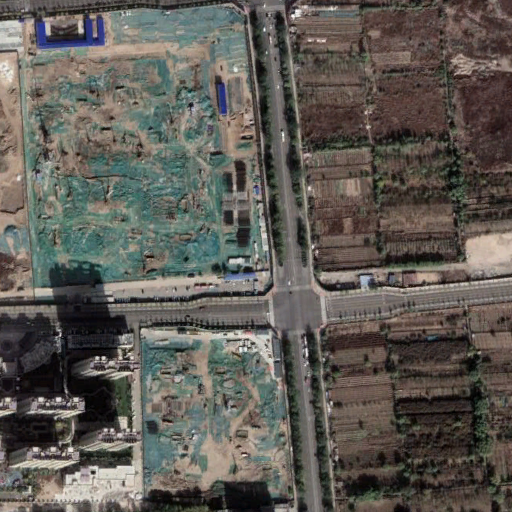cw: (22, 6, 269, 287), (141, 330, 293, 510)
